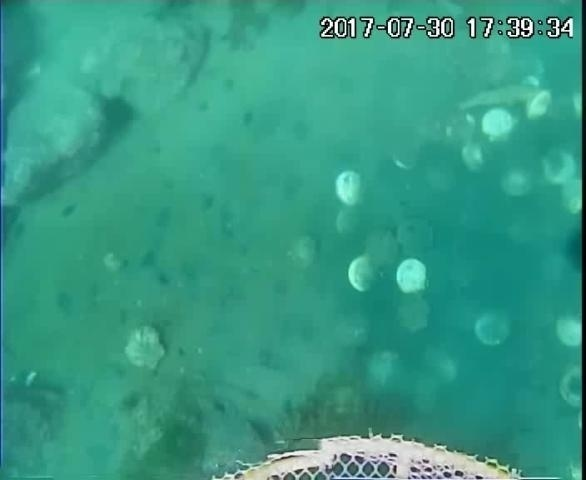echinus: (351, 386, 421, 444), (155, 414, 211, 470), (357, 270, 407, 330), (96, 93, 140, 138), (559, 225, 585, 279)
scallop: (121, 323, 170, 375), (391, 290, 434, 337), (471, 309, 514, 350), (345, 253, 384, 296), (392, 257, 432, 298), (291, 215, 320, 270), (521, 85, 561, 122), (493, 164, 534, 200), (331, 169, 367, 209), (478, 107, 518, 143), (397, 220, 437, 256), (363, 353, 403, 389), (327, 203, 363, 243), (551, 176, 586, 216), (552, 311, 585, 352), (458, 142, 488, 175)
